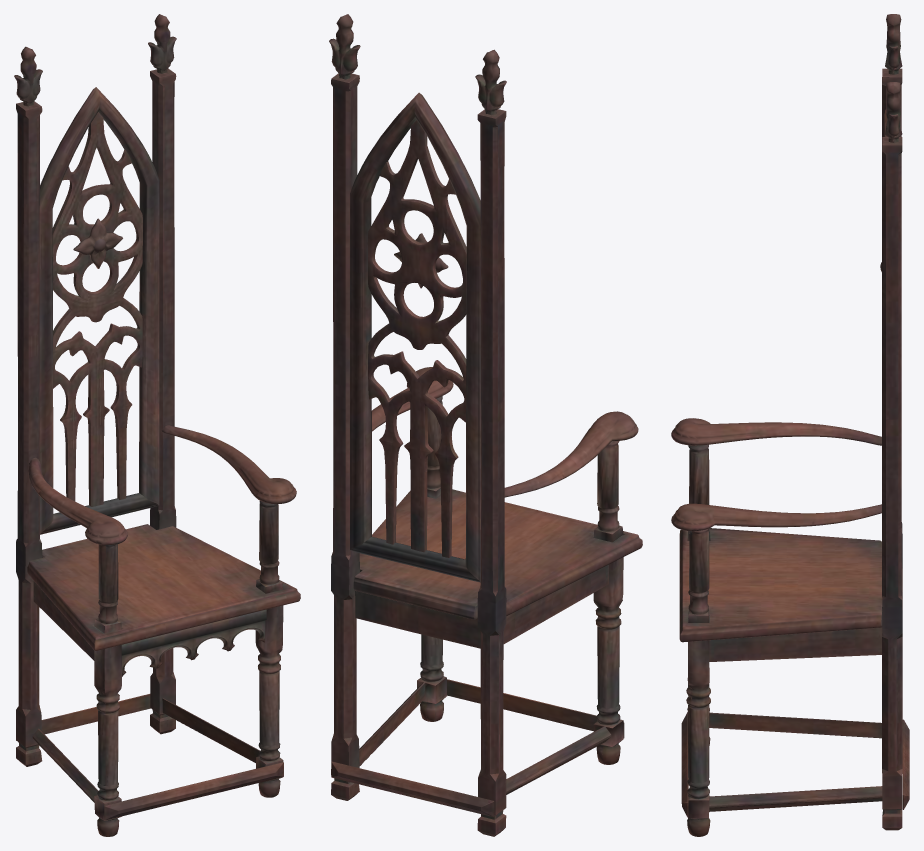
File: ph_WoodenChair_01.glb
3 renders of one model, left to right at view 1: azimuth 30°, elevation 25°; view 2: azimuth 150°, elevation 25°; view 3: azimuth 270°, elevation 25°, orthographic. The views are drawn at different scales.
Parts seen in each view (by area): view 1: WoodenChair_01; view 2: WoodenChair_01; view 3: WoodenChair_01.
Part boxes in pixels (x1,y1,x2,y2): WoodenChair_01: [14, 14, 300, 836]; WoodenChair_01: [329, 14, 642, 836]; WoodenChair_01: [671, 14, 909, 836].
Bounding box in the file's own units: 0.6882 × 2.27 × 0.6585.
Materials: 1 (1 with a texture image).
